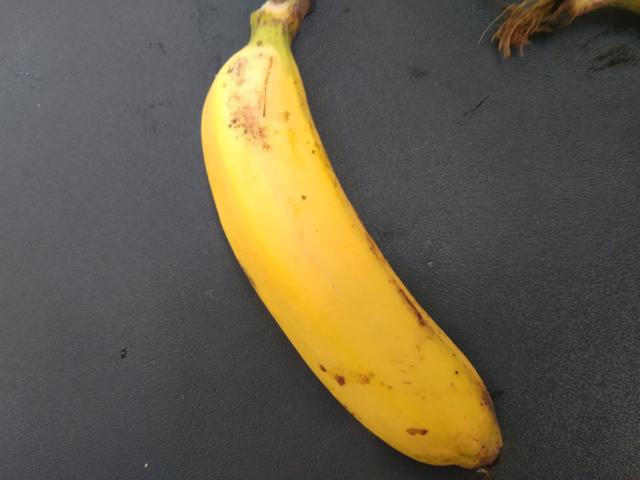ripe: (182, 57, 515, 479)
